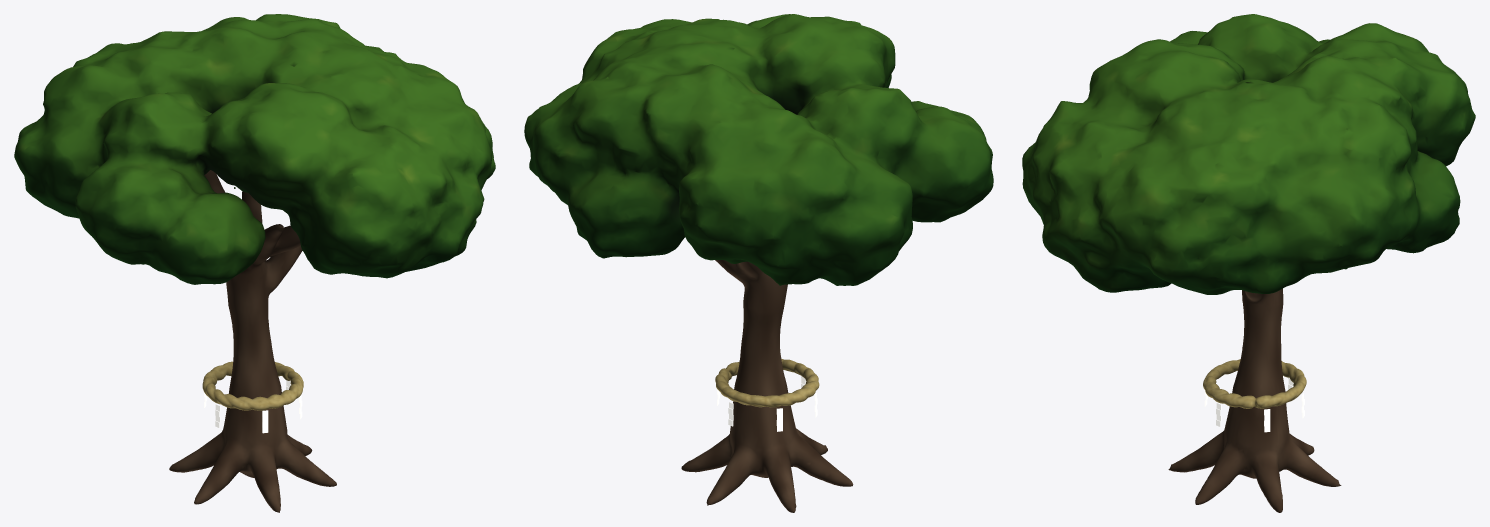
The model's file is sacred_tree.glb.
The picture shows the model from 3 angles, left to right: view 1: azimuth 30°, elevation 25°; view 2: azimuth 150°, elevation 25°; view 3: azimuth 270°, elevation 25°; orthographic projection. The views are drawn at different scales.
Parts seen in each view (by area): view 1: sacred_crown, sacred_trunk, shimenawa; view 2: sacred_crown, sacred_trunk, shimenawa; view 3: sacred_crown, sacred_trunk, shimenawa.
Boxes of the visible parts, x1,y1,x2,y2 form: sacred_crown: (14,14,495,284); sacred_trunk: (169,170,336,512); shimenawa: (202,361,303,410); sacred_crown: (524,14,993,285); sacred_trunk: (681,260,853,512); shimenawa: (715,359,819,407); sacred_crown: (1022,14,1475,294); sacred_trunk: (1168,288,1341,512); shimenawa: (1203,359,1306,408).
Size of the model in its own units: 11.99 by 12.29 by 11.8.
